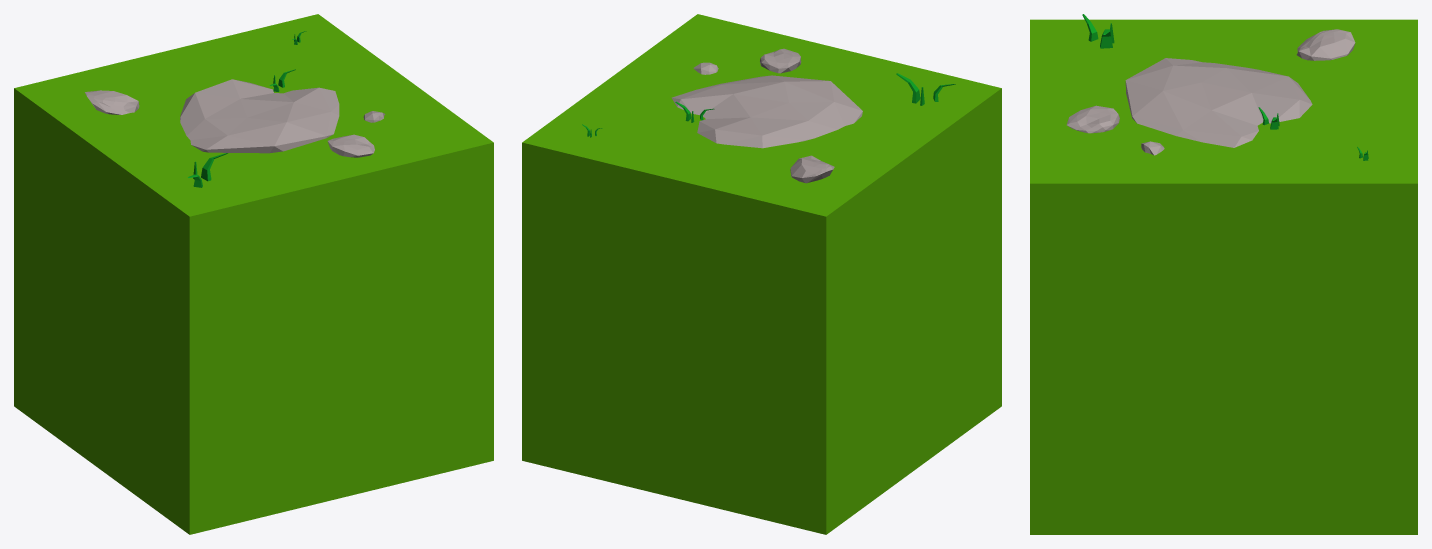
File: blocoteste.fbx
3 views of the same model, side by side, from view 1: azimuth 30°, elevation 25°; view 2: azimuth 150°, elevation 25°; view 3: azimuth 270°, elevation 25° (orthographic). The views are drawn at different scales.
Parts seen in each view (by area): view 1: Cube.001; view 2: Cube.001; view 3: Cube.001.
Boxes of the visible parts, x1,y1,x2,y2 form: Cube.001: (14,14,493,534); Cube.001: (522,14,1001,534); Cube.001: (1030,14,1417,534).
Size of the model in its own units: 100 by 107 by 100.
